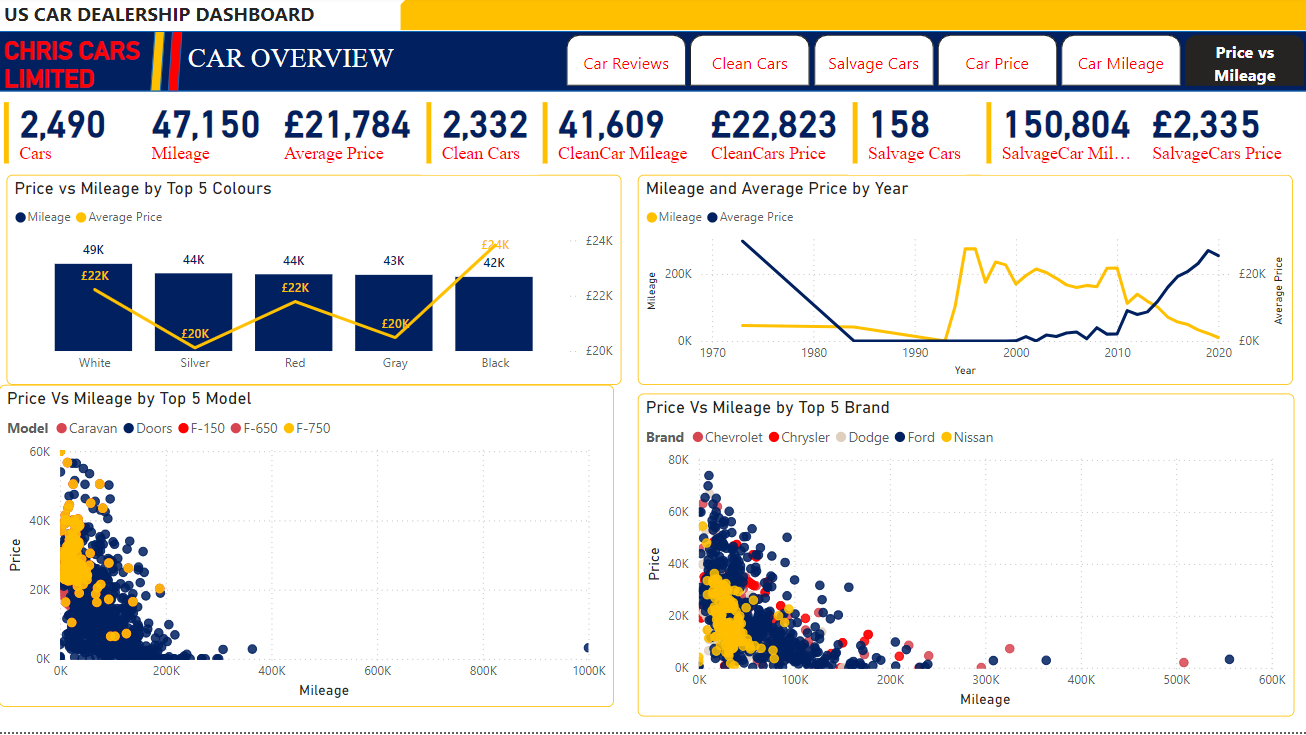

The dashboard page shown, as its layout file describes it:
{"tool":"powerbi","page":{"name":"Price vs Mileage","canvas":[1280,720],"ordinal":5},"visuals":[{"type":"shape","box":[148.4,33.8,14.5,59.1],"z":0,"group":"g1"},{"type":"shape","box":[392.1,0,887.9,33.8],"z":0},{"type":"shape","box":[165.3,33.8,14.5,59.1],"z":1000,"group":"g1"},{"type":"shape","box":[0,33.8,1280,59.1],"z":1000},{"type":"textbox","box":[0,0,400.5,45.8],"z":2000},{"type":"textbox","box":[179.8,39.8,220.8,53.1],"z":3000},{"type":"multiRowCard","fields":{"Values":["My Measures.Cars","My Measures.Mileage","My Measures.Average Price"]},"box":[0,99,413.3,75.8],"z":4000},{"type":"multiRowCard","fields":{"Values":["My Measures.CleanCar Mileage","My Measures.CleanCars Price"]},"box":[527,99,324.1,75.8],"z":5000},{"type":"lineClusteredColumnComboChart","title":"Price vs Mileage by Top 5  Colours","fields":{"Category":["Car Color.Color"],"Y":["My Measures.Mileage"],"Y2":["My Measures.Average Price"]},"box":[7.3,174.9,601.6,205.4],"z":6000},{"type":"lineChart","fields":{"Category":["USA_Cars_Facts.Year"],"Y":["My Measures.Mileage"],"Y2":["My Measures.Average Price"]},"box":[624.9,174.9,640.8,205.4],"z":7000},{"type":"textbox","box":[0,33.8,170.1,73.6],"z":8000},{"type":"group","id":"g1","title":"Group 1","box":[148.4,33.8,31.4,59.1],"z":9000},{"type":"pageNavigator","box":[555.2,37.9,725.1,50.1],"z":10000},{"type":"multiRowCard","fields":{"Values":["My Measures.SalvageCar Mileage","My Measures.SalvageCars Price"]},"box":[961.1,99,319.2,75.8],"z":11000},{"type":"multiRowCard","fields":{"Values":["My Measures.Salvage Cars"]},"box":[830.3,99,116.2,75.8],"z":12000},{"type":"multiRowCard","fields":{"Values":["My Measures.Clean Cars"]},"box":[413.3,99,113.7,75.8],"z":13000},{"type":"scatterChart","title":"Price Vs Mileage by Top 5 Model","fields":{"X":["USA_Cars_Facts.Mileage"],"Y":["USA_Cars_Facts.Price"],"Series":["Car Model.Model"]},"box":[0,404.8,601.6,315.5],"z":14000},{"type":"scatterChart","title":"Price Vs Mileage by Top 5 Brand","fields":{"Y":["USA_Cars_Facts.Price"],"X":["My Measures.Mileage"],"Series":["Car Brands.Brand"]},"box":[624.4,388.3,642.2,315.6],"z":15000}]}

Visuals, with their boxes in screenshot pixels (x1, y1, x2, y2), scaled from the page's 1280x720 canvas onto the 1306x735 screenshot:
shape: (151,35,166,95)
shape: (400,0,1305,35)
shape: (169,35,183,95)
shape: (0,35,1305,95)
textbox: (0,0,409,47)
textbox: (183,41,409,95)
multiRowCard - My Measures.Cars x My Measures.Mileage: (0,101,422,178)
multiRowCard - My Measures.CleanCar Mileage x My Measures.CleanCars Price: (538,101,868,178)
"Price vs Mileage by Top 5  Colours" lineClusteredColumnComboChart: (7,179,621,388)
lineChart - USA_Cars_Facts.Year x My Measures.Mileage: (638,179,1291,388)
textbox: (0,35,174,110)
"Group 1" group: (151,35,183,95)
pageNavigator: (566,39,1305,90)
multiRowCard - My Measures.SalvageCar Mileage x My Measures.SalvageCars Price: (981,101,1305,178)
multiRowCard - My Measures.Salvage Cars: (847,101,966,178)
multiRowCard - My Measures.Clean Cars: (422,101,538,178)
"Price Vs Mileage by Top 5 Model" scatterChart: (0,413,614,734)
"Price Vs Mileage by Top 5 Brand" scatterChart: (637,396,1292,719)
